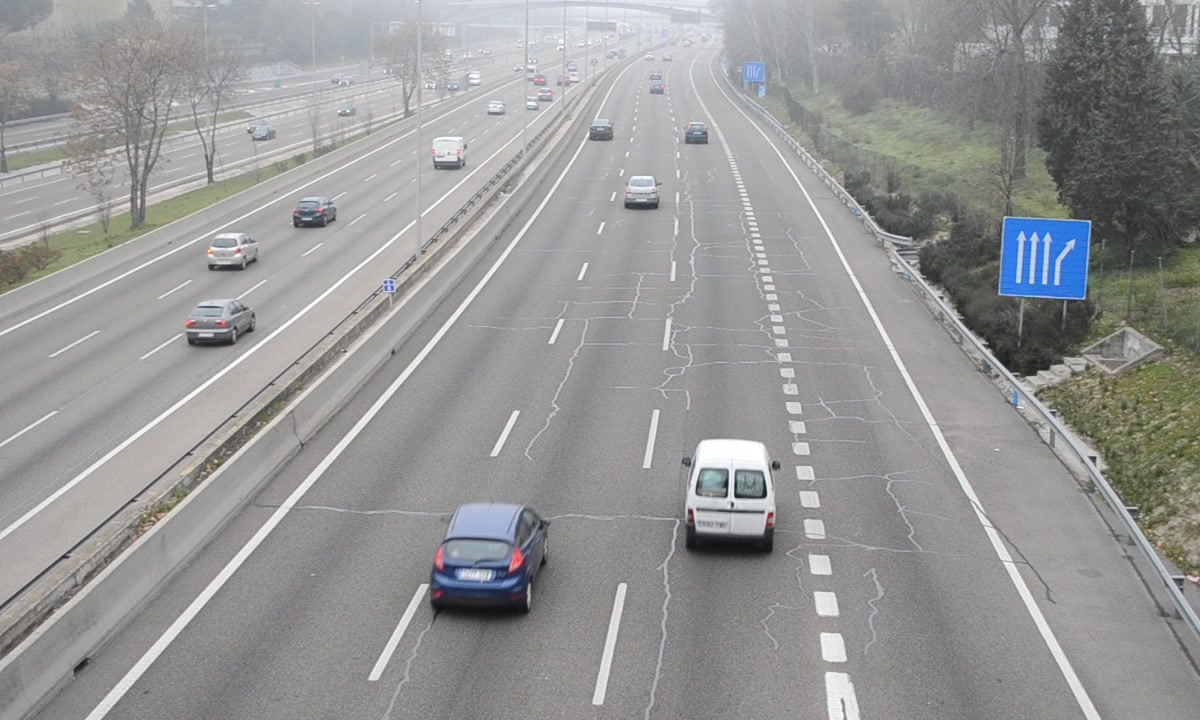car: (429, 503, 550, 612), (624, 175, 660, 206), (588, 117, 614, 142), (684, 121, 709, 145)
van: (685, 439, 777, 552)
